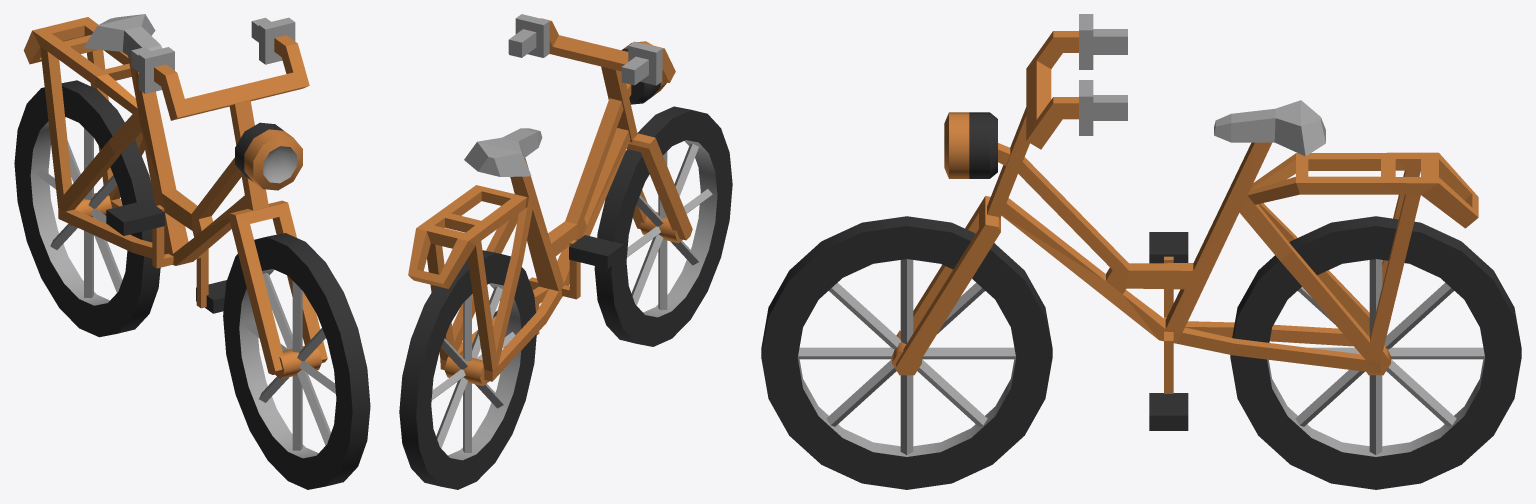
File: Bicycle.fbx
The picture shows the model from 3 angles, left to right: view 1: azimuth 30°, elevation 25°; view 2: azimuth 150°, elevation 25°; view 3: azimuth 270°, elevation 25°; orthographic projection. The views are drawn at different scales.
Visible parts, largest first — view 1: Bicycle; view 2: Bicycle; view 3: Bicycle.
Boxes of the visible parts, box(x1,y1,x2,y2) form: Bicycle: box(14, 14, 370, 489); Bicycle: box(399, 14, 732, 489); Bicycle: box(761, 14, 1521, 489).
Size of the model in its own units: 22.23 by 53.98 by 86.54.
